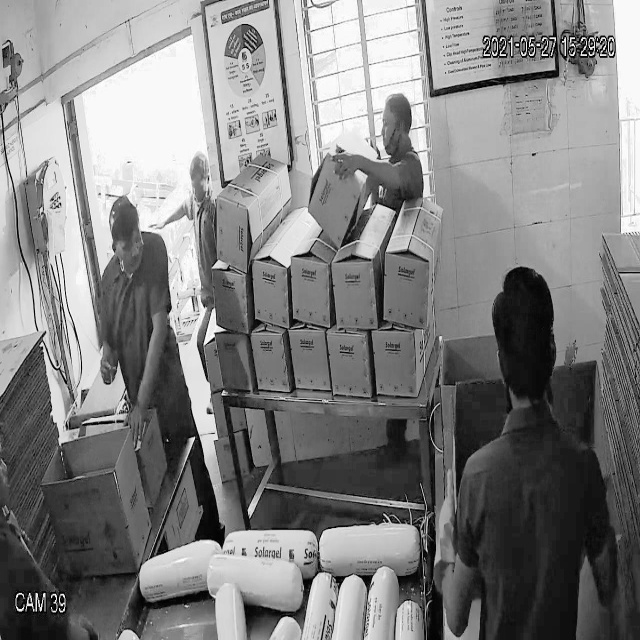Sin_gafas: (108, 228, 148, 261)
